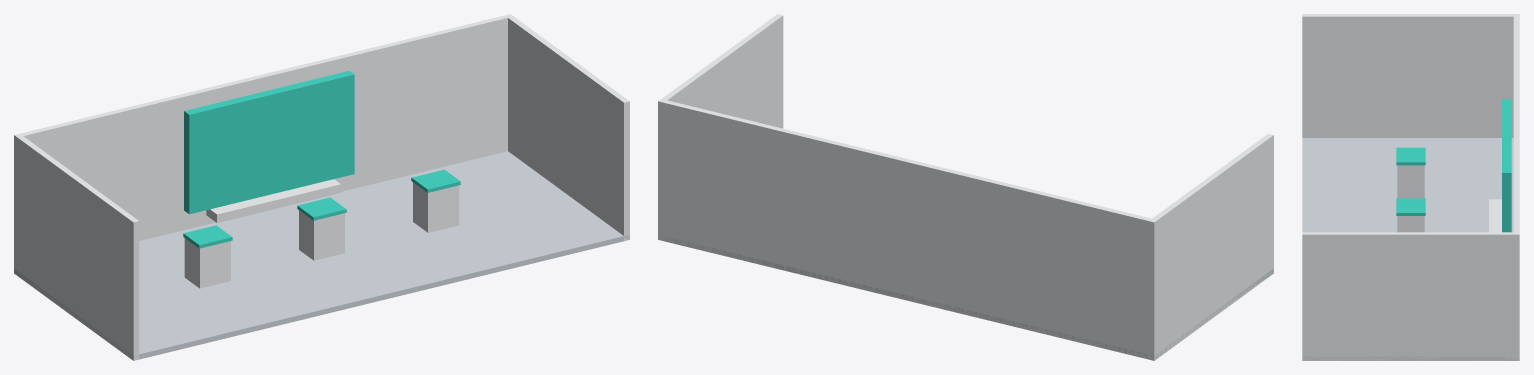
3 renders of one model, left to right at view 1: azimuth 30°, elevation 25°; view 2: azimuth 150°, elevation 25°; view 3: azimuth 270°, elevation 25°, orthographic. The views are drawn at different scales.
Visible parts, largest first — view 1: Exhibition Booth Concept; view 2: Exhibition Booth Concept; view 3: Exhibition Booth Concept.
Part boxes in pixels (box(x1,y1,x2,y2)): Exhibition Booth Concept: box(14, 14, 629, 360); Exhibition Booth Concept: box(658, 14, 1273, 360); Exhibition Booth Concept: box(1302, 14, 1519, 360).
Bounding box in the file's own units: 12 × 3.2 × 5.
